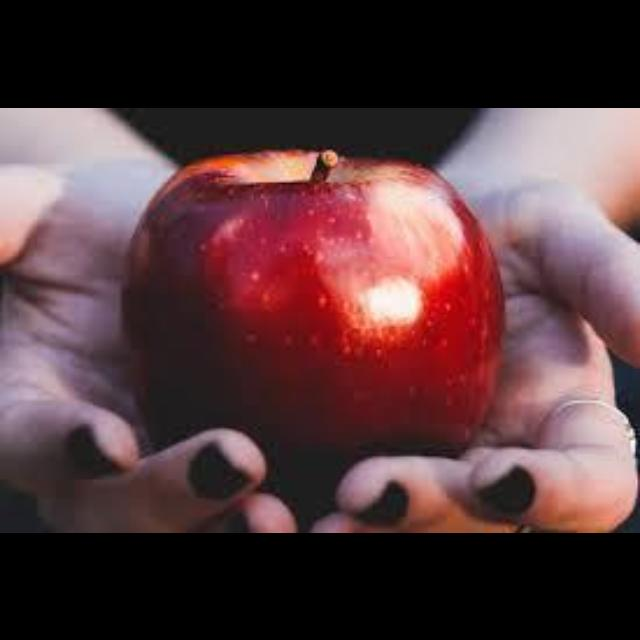apple: (121, 151, 503, 526)
